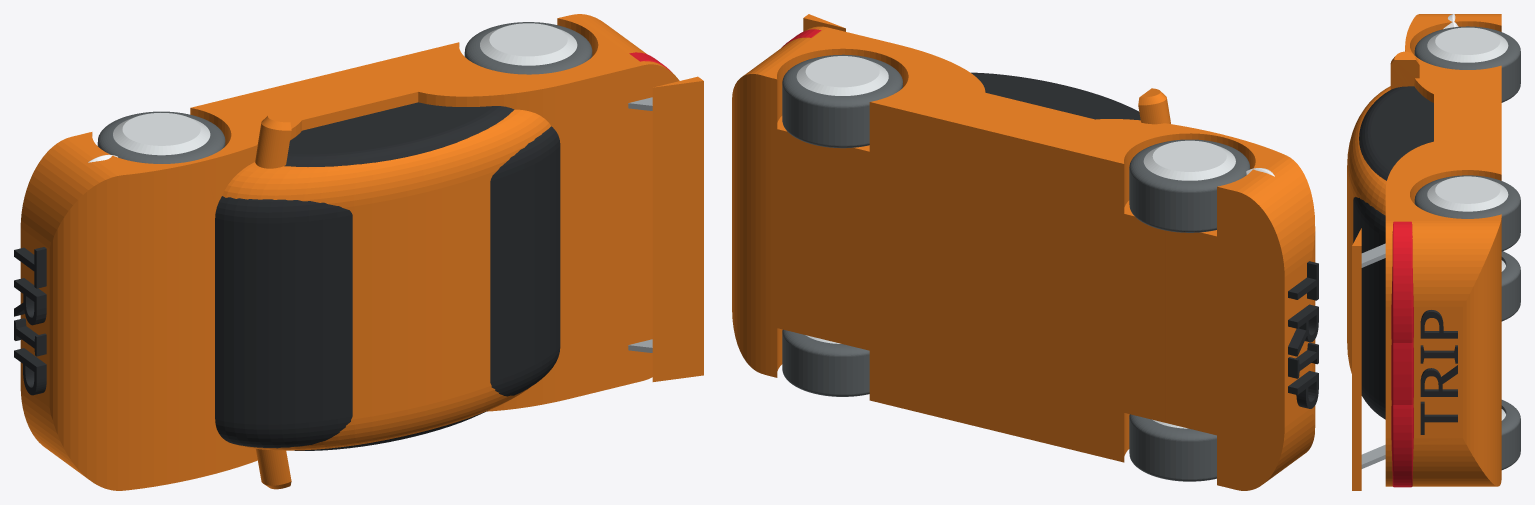
The model's file is tinker.obj.
3 renders of one model, left to right at view 1: azimuth 30°, elevation 25°; view 2: azimuth 150°, elevation 25°; view 3: azimuth 270°, elevation 25°, orthographic. The views are drawn at different scales.
Parts seen in each view (by area): view 1: group_0_16089887, group_0_2829873, group_0_14541540, group_0_6383466; view 2: group_0_16089887, group_0_6383466, group_0_2829873, group_0_14541540; view 3: group_0_16089887, group_0_2829873, group_0_6383466, group_0_15277357, group_0_14541540, group_0_10988977.
Part boxes in pixels (bbox=[...]): group_0_16089887: bbox=[20, 14, 703, 490]; group_0_2829873: bbox=[14, 102, 560, 450]; group_0_14541540: bbox=[113, 23, 577, 155]; group_0_6383466: bbox=[97, 22, 592, 163]; group_0_16089887: bbox=[732, 14, 1315, 490]; group_0_6383466: bbox=[782, 54, 1250, 481]; group_0_2829873: bbox=[971, 72, 1318, 408]; group_0_14541540: bbox=[796, 56, 1235, 428]; group_0_16089887: bbox=[1347, 14, 1501, 490]; group_0_2829873: bbox=[1353, 86, 1457, 434]; group_0_6383466: bbox=[1414, 26, 1520, 469]; group_0_15277357: bbox=[1391, 221, 1413, 487]; group_0_14541540: bbox=[1427, 27, 1508, 420]; group_0_10988977: bbox=[1361, 243, 1385, 468].
Size of the model in its own units: 123 by 70.2 by 36.
